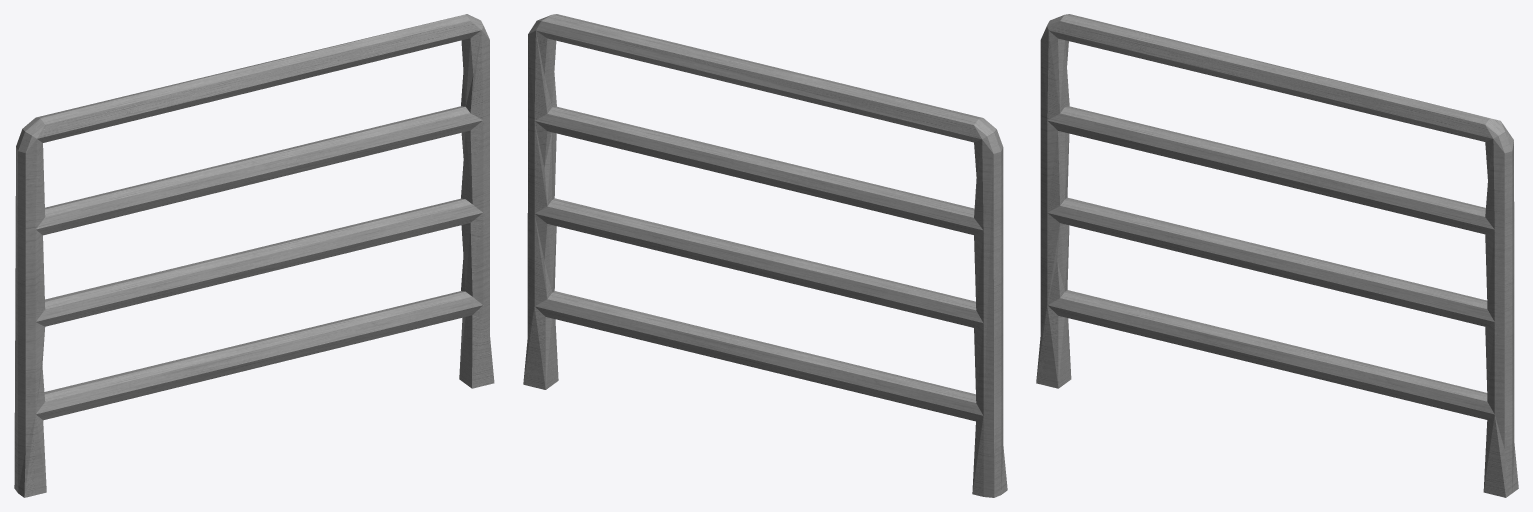
File: guard-rail.obj
The picture shows the model from 3 angles, left to right: view 1: azimuth 30°, elevation 25°; view 2: azimuth 150°, elevation 25°; view 3: azimuth 330°, elevation 25°; orthographic projection.
Visible parts, largest first — view 1: guard-rail_guard-rail_auv; view 2: guard-rail_guard-rail_auv; view 3: guard-rail_guard-rail_auv.
Part boxes in pixels (box(x1,y1,x2,y2)): guard-rail_guard-rail_auv: box(14, 14, 494, 497); guard-rail_guard-rail_auv: box(523, 14, 1007, 497); guard-rail_guard-rail_auv: box(1036, 14, 1518, 497).
Bounding box in the file's own units: 2 × 1.5 × 0.0948.
Materials: 1 (1 with a texture image).
